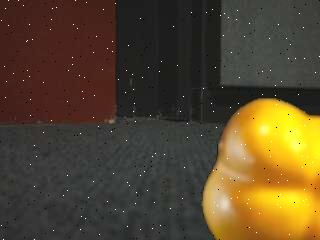Capsicum: (201, 96, 320, 239)
